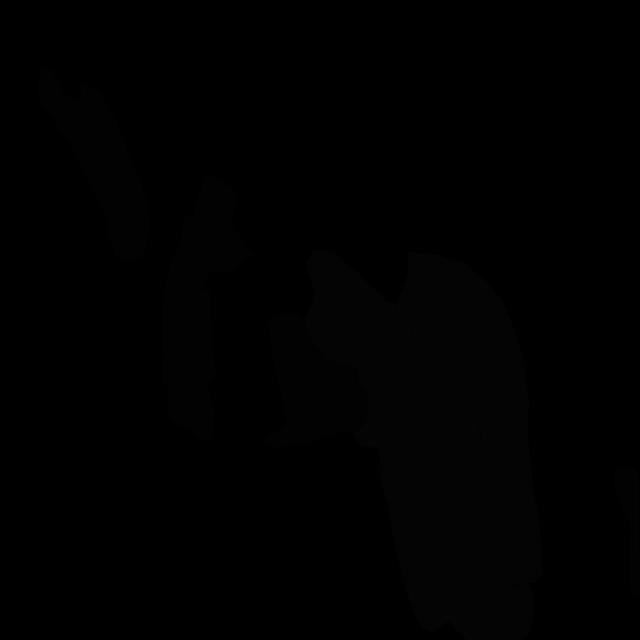cardboard: (162, 173, 254, 443), (37, 68, 150, 262), (261, 312, 368, 447), (614, 466, 640, 601)
soft_plastic: (353, 360, 534, 640), (304, 249, 444, 446), (396, 251, 530, 439), (437, 414, 542, 589)
